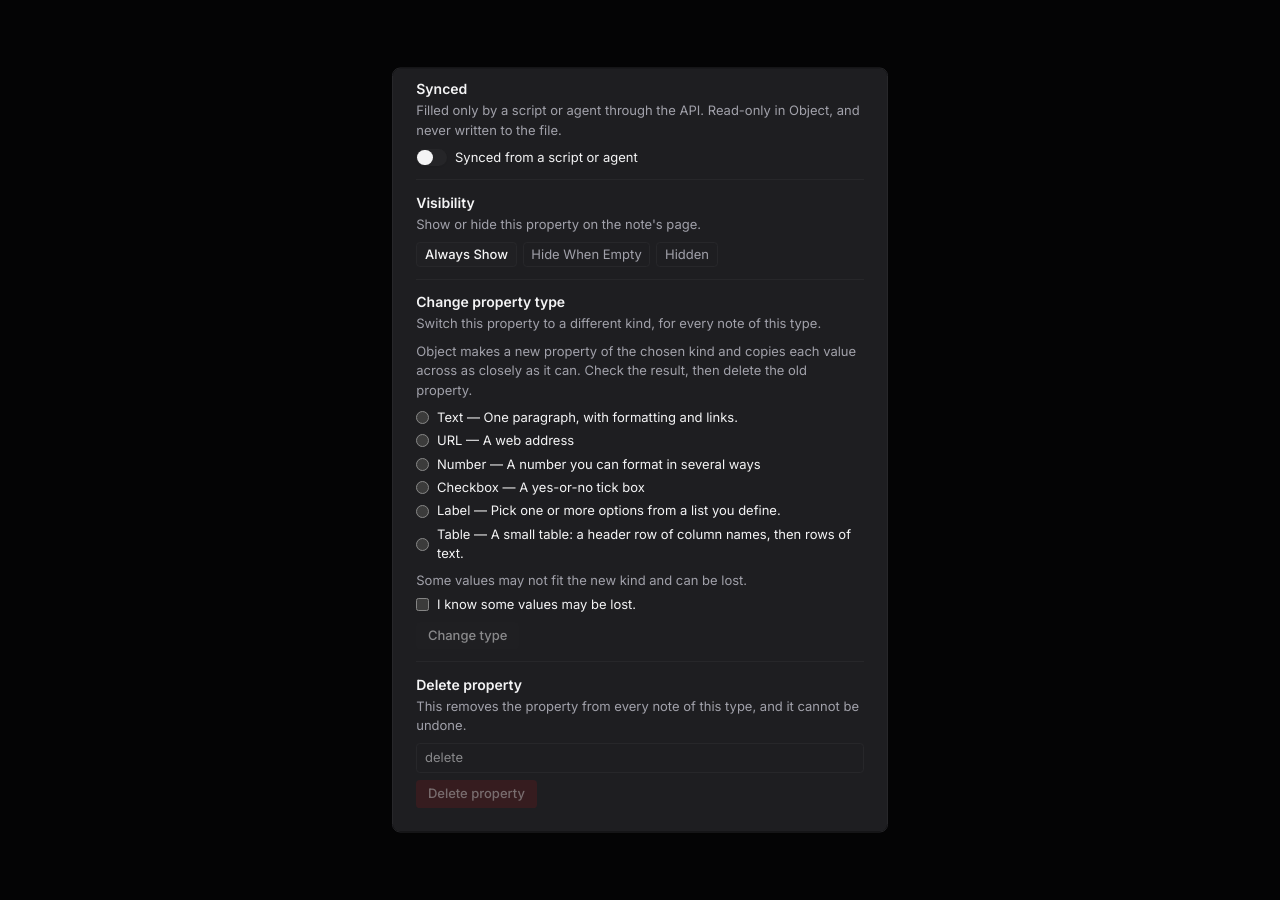
PropertySettings › test PropertySettings delete requires typing "delete"
The width and height of the screenshot is (1280, 900).
Later steps or results of the test are not shown.
(page scrolled)
Check: the button "Delete property" is disabled, box [416,781,537,808]
Type "delet" into the field named "Type \"delete\" to confirm" at (640,758), box [416,744,864,773]
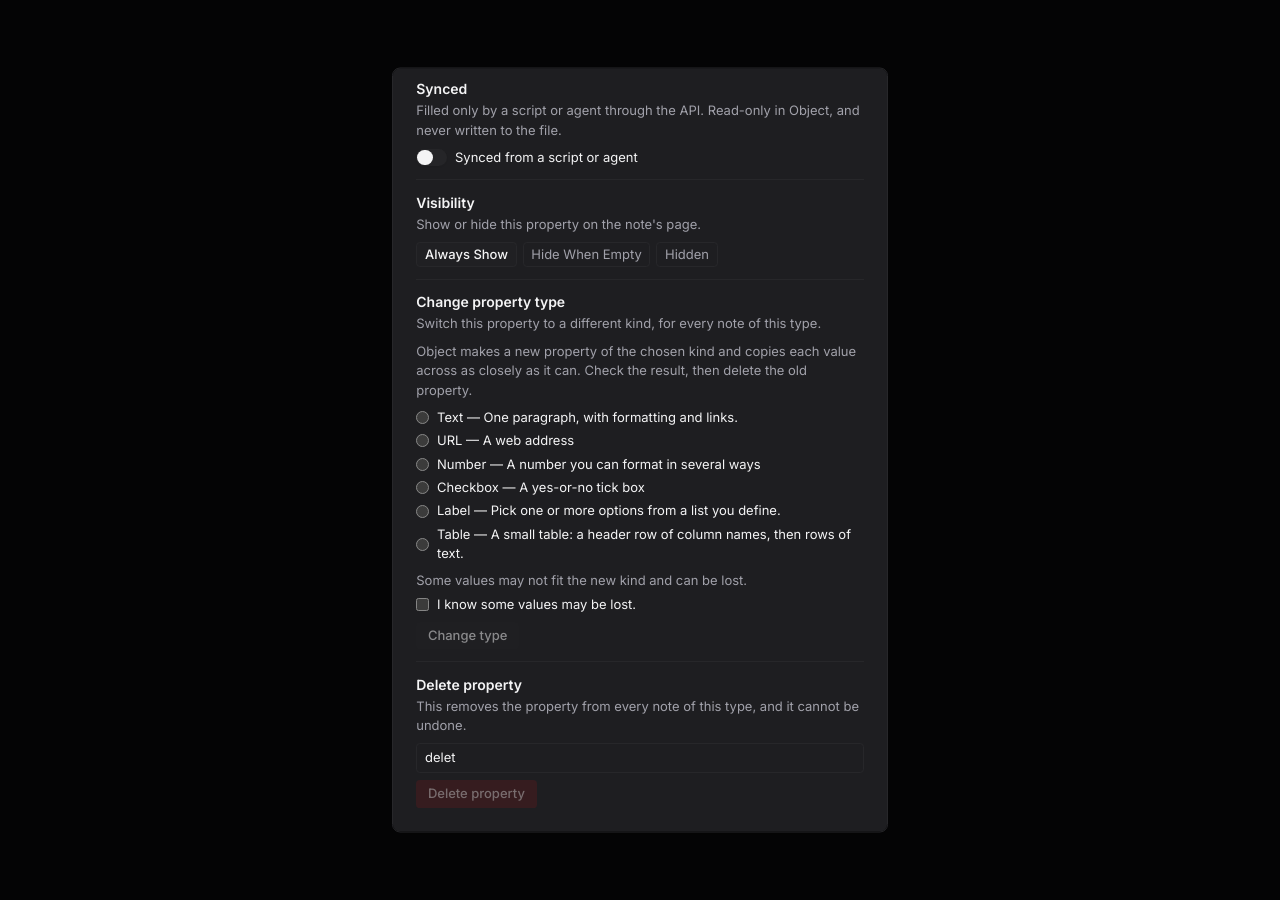
Check: the button "Delete property" is disabled, box [416,781,537,808]
Type "e" into the field named "Type \"delete\" to confirm" at (640,758), box [416,744,864,773]
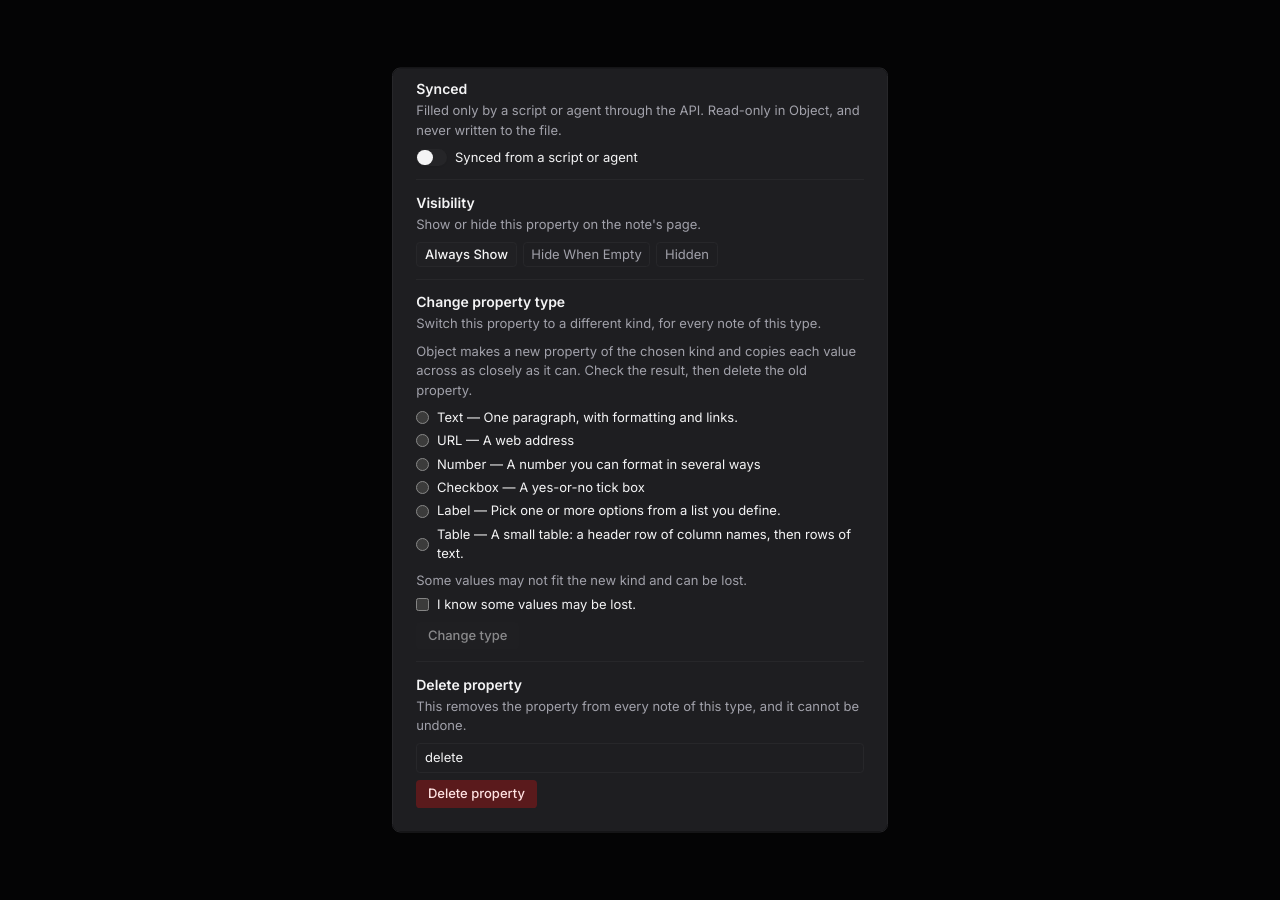
Check: the button "Delete property" is enabled, box [416,781,537,808]
